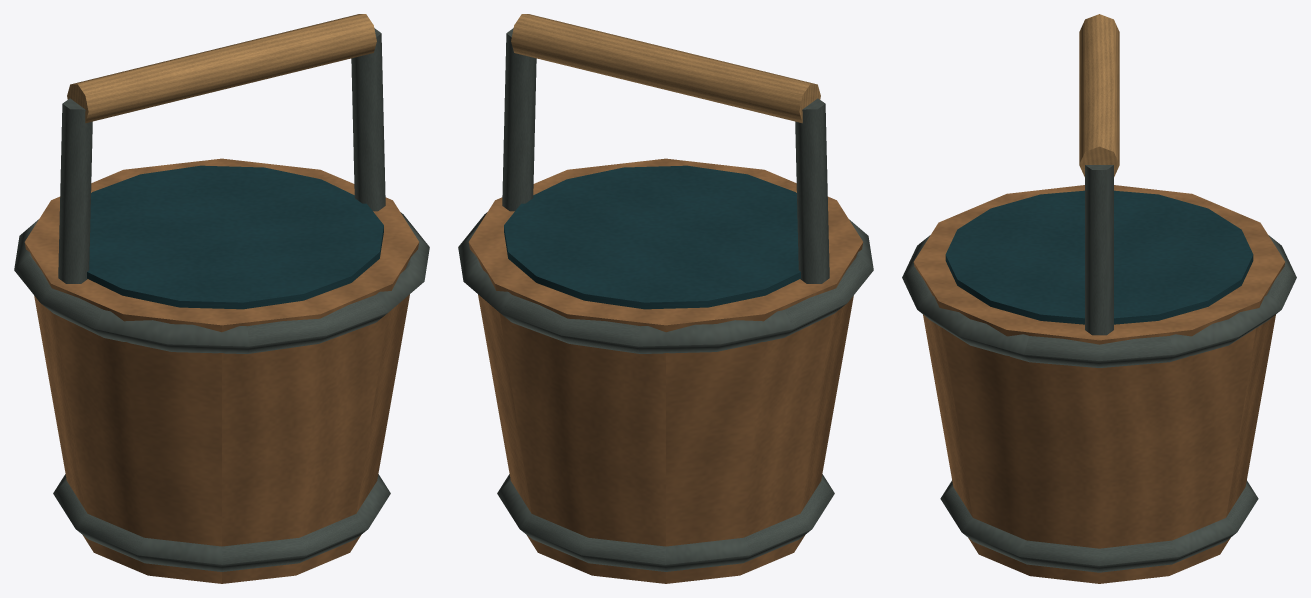
The model's file is bucket-1.fbx.
3 renders of one model, left to right at view 1: azimuth 30°, elevation 25°; view 2: azimuth 150°, elevation 25°; view 3: azimuth 270°, elevation 25°, orthographic. The views are drawn at different scales.
Parts seen in each view (by area): view 1: bucket-1__Geometry; view 2: bucket-1__Geometry; view 3: bucket-1__Geometry.
Part boxes in pixels (x1,y1,x2,y2): bucket-1__Geometry: (14, 14, 429, 583); bucket-1__Geometry: (458, 14, 873, 583); bucket-1__Geometry: (902, 14, 1296, 583).
Size of the model in its own units: 0.68 by 0.845 by 0.68.
